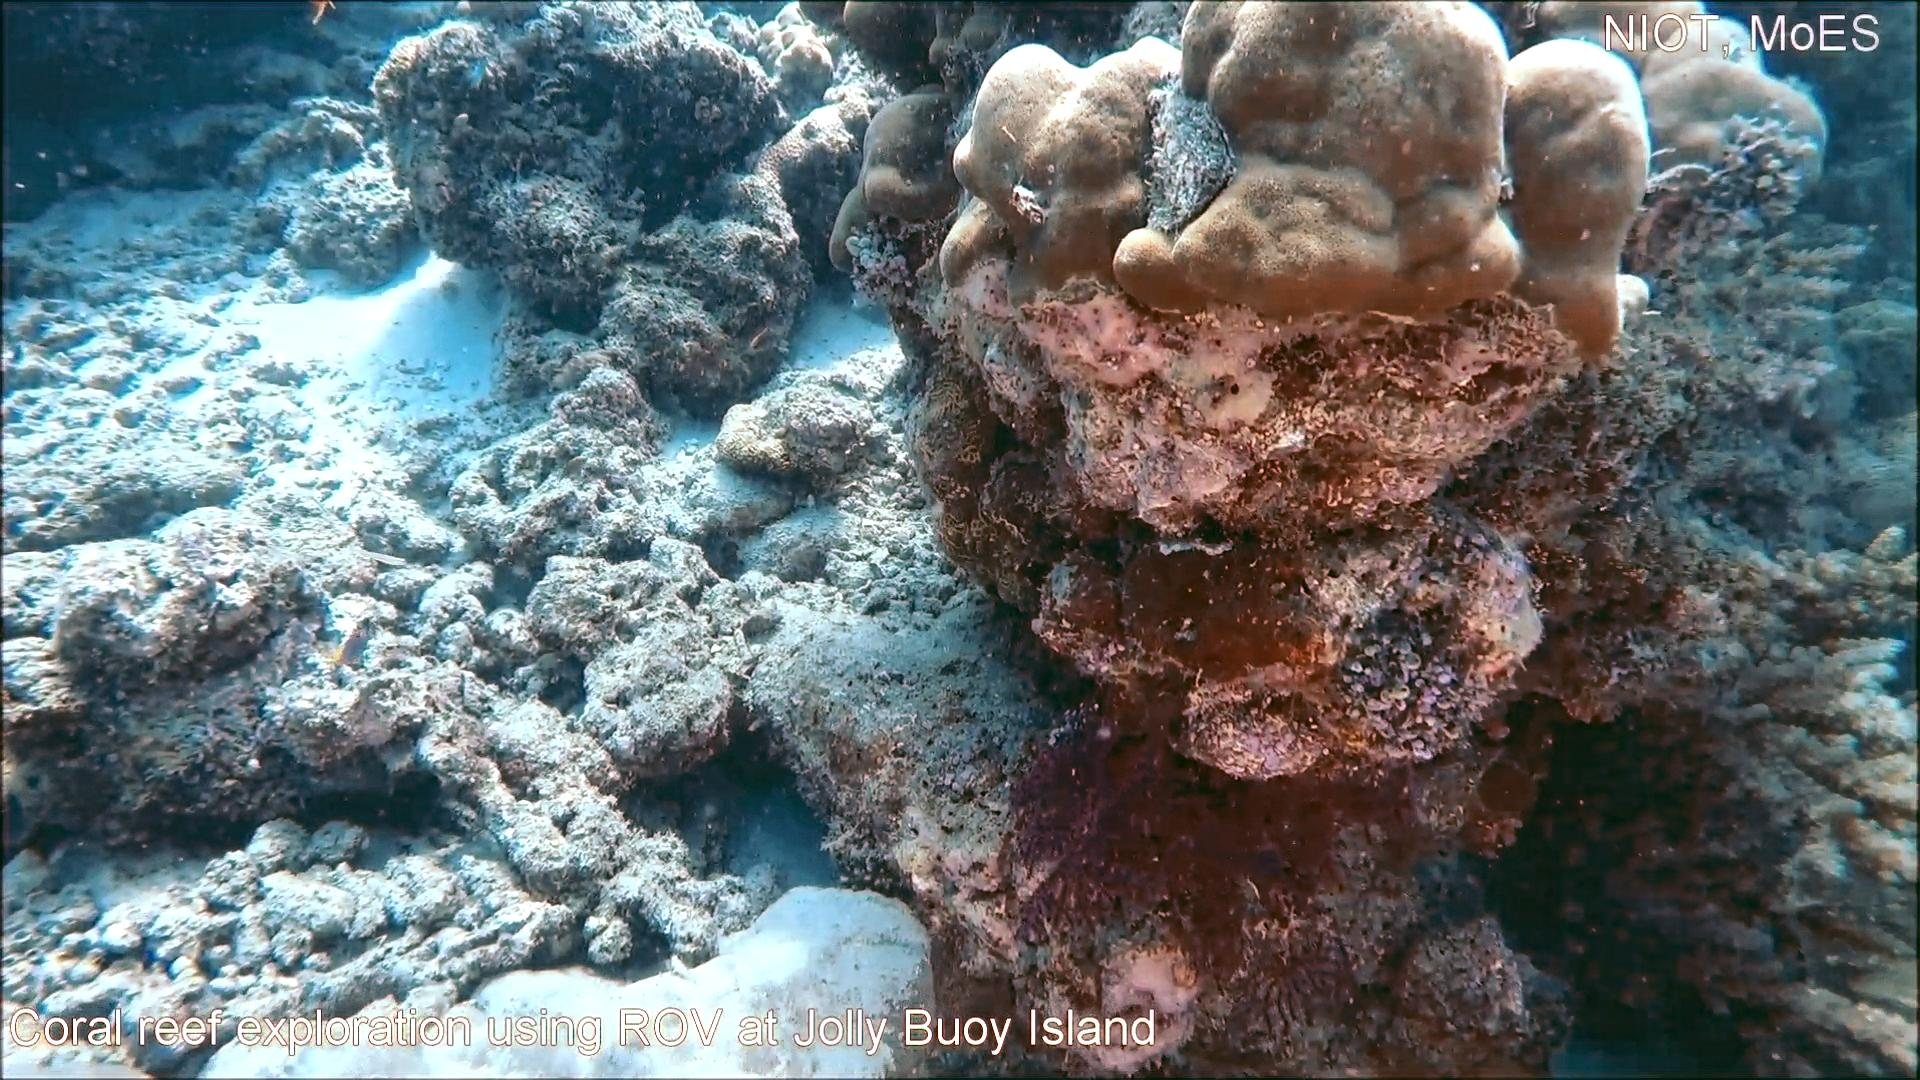Gorgonian-Purple Plexaura: (992, 676, 1423, 1042)
Porites-Porites pukoensis: (936, 0, 1658, 372), (200, 878, 947, 1080)
